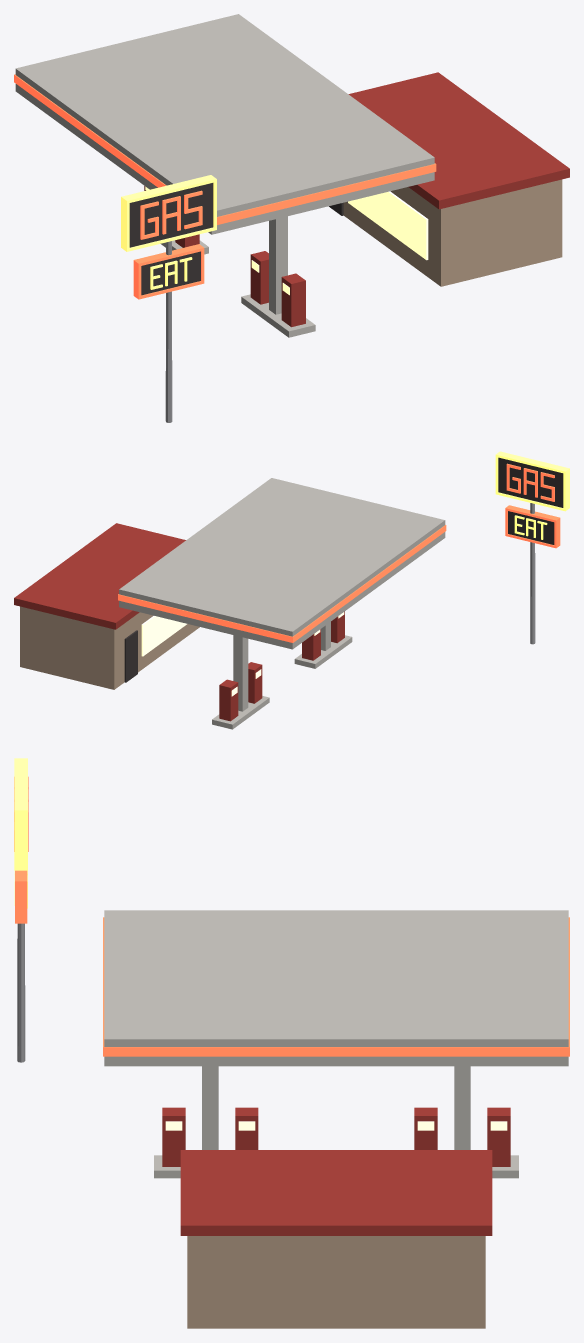
The model's file is gas_station.glb.
3 renders of one model, top to bottom at view 1: azimuth 30°, elevation 25°; view 2: azimuth 150°, elevation 25°; view 3: azimuth 270°, elevation 25°, orthographic. The views are drawn at different scales.
Visible parts, largest first — view 1: gas_station; view 2: gas_station; view 3: gas_station.
Part boxes in pixels (left/top/right/bottom): gas_station: left=14, top=14, right=569, bottom=422; gas_station: left=14, top=451, right=569, bottom=729; gas_station: left=14, top=758, right=569, bottom=1328.
Bounding box in the file's own units: 21.16 × 9.21 × 16.76.
